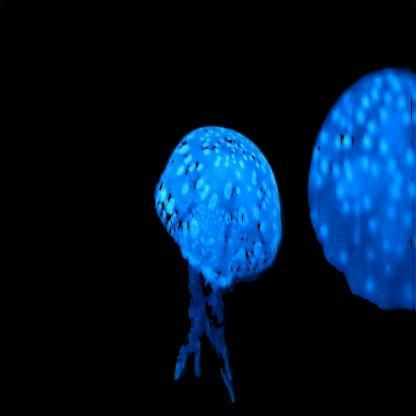LightHouse: (154, 126, 280, 395), (306, 66, 414, 314), (14, 232, 124, 343), (226, 283, 284, 385), (12, 14, 88, 86), (380, 8, 416, 72)
